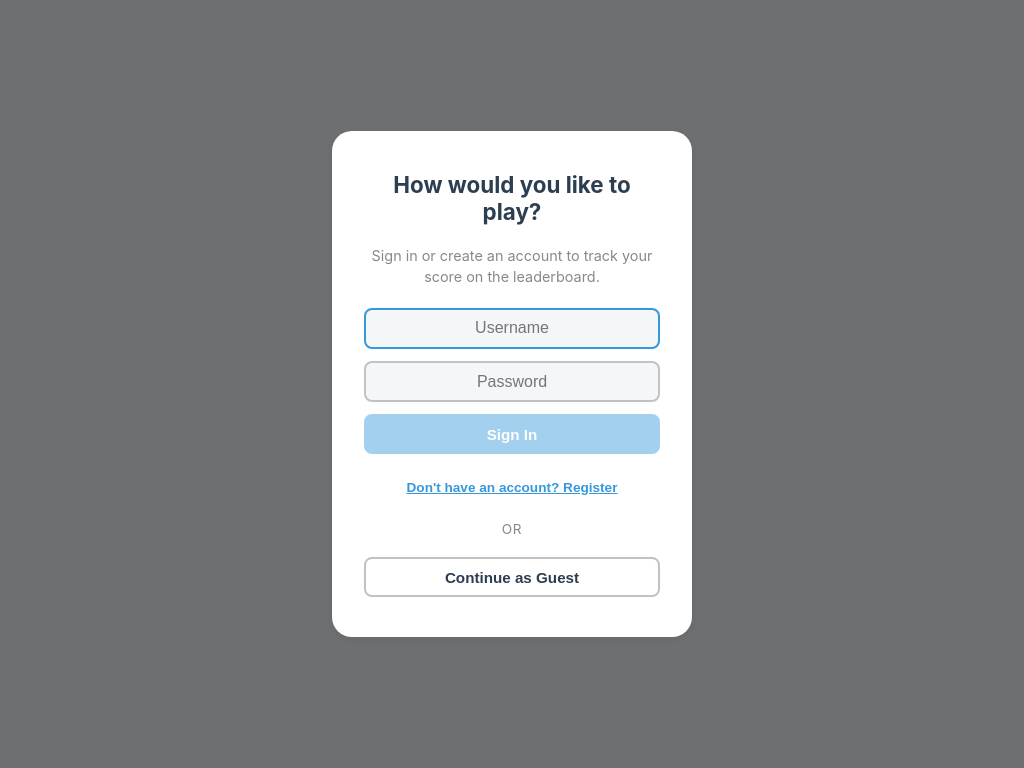
Test case: AuthModal — register mode › register button is enabled when all fields are filled
Click the button "Don't have an account? Register" at (512, 488), box [400, 474, 624, 501]
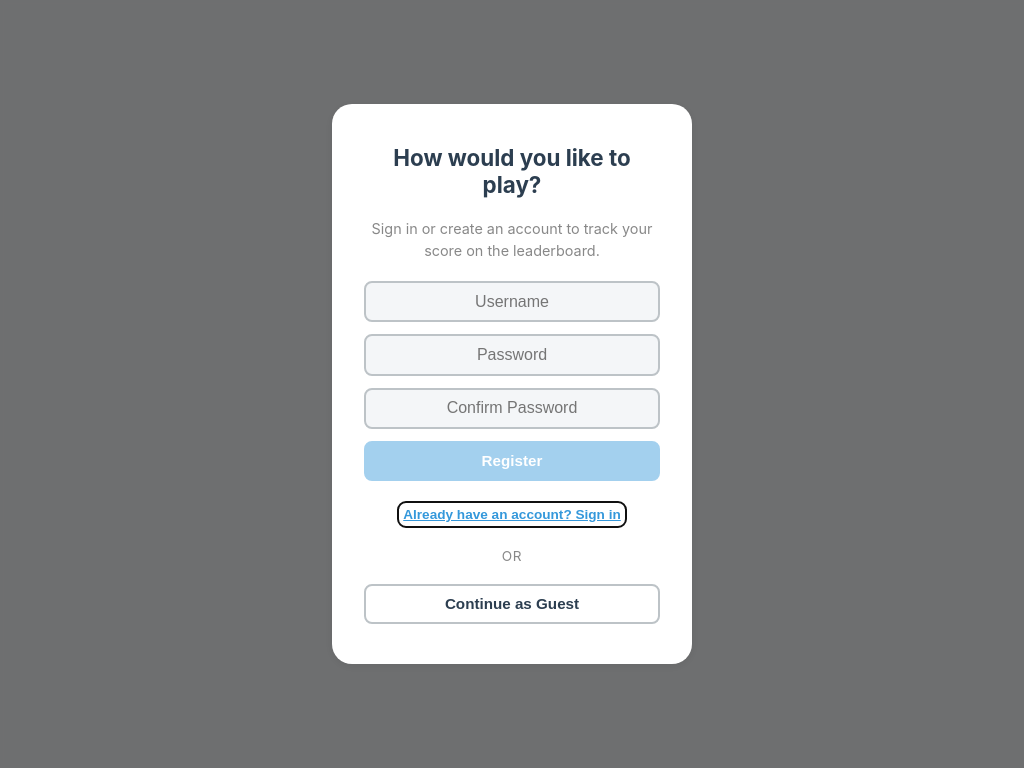
Type "alice" into the field labelled "Username" at (512, 302), box [364, 281, 660, 322]
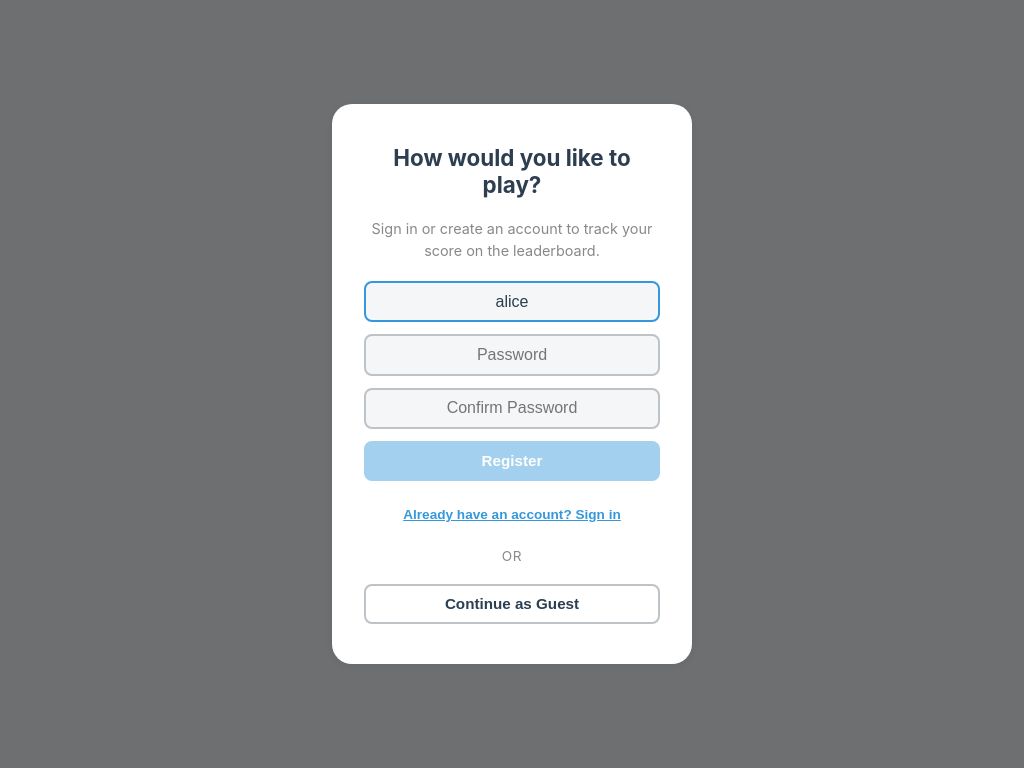
Type "pass123" into the password field labelled "Password" at (512, 355), box [364, 334, 660, 376]
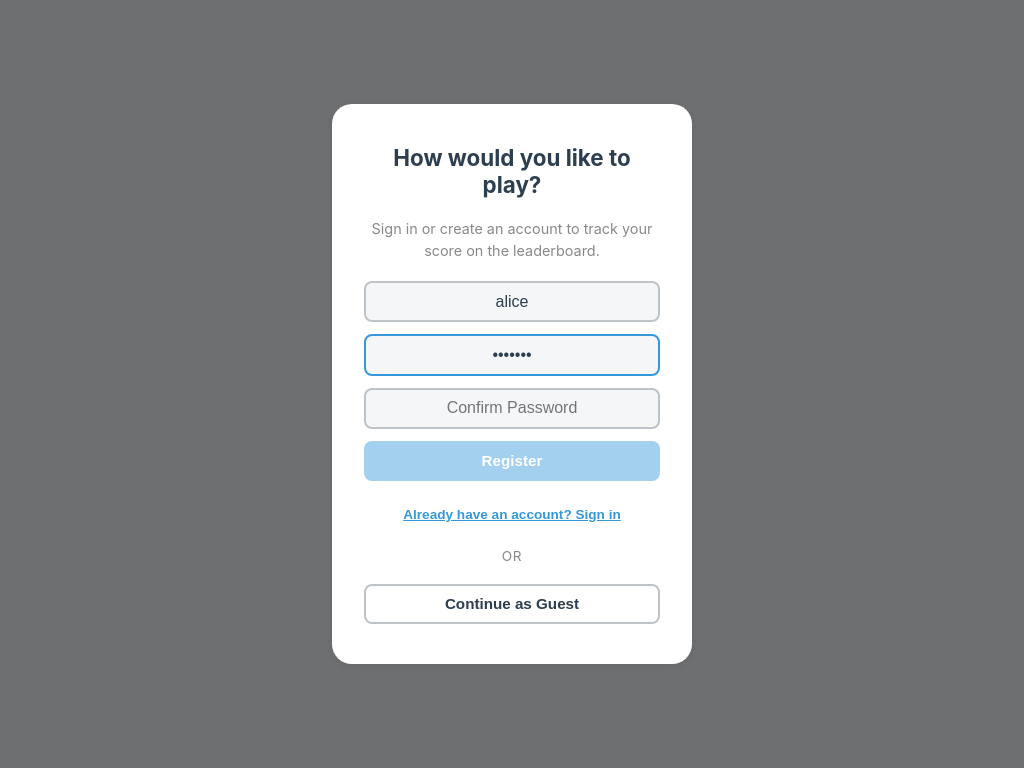
Type "pass123" into the password field labelled "Confirm Password" at (512, 408), box [364, 388, 660, 429]
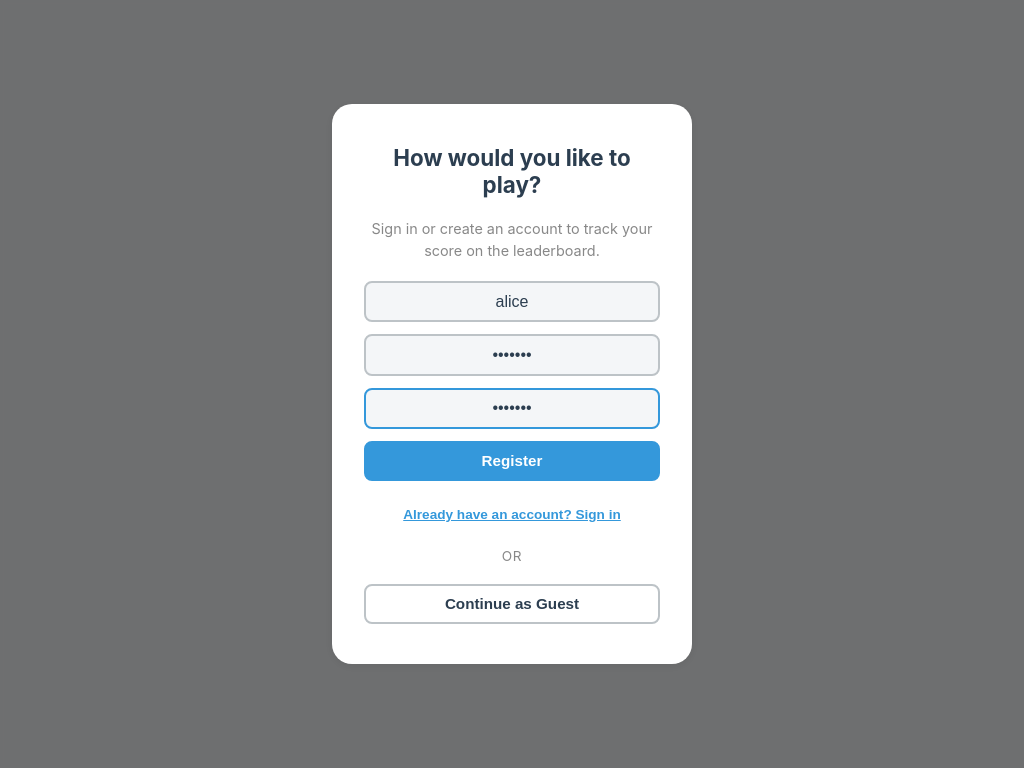
Now the button "Register" is enabled, box [364, 441, 660, 481]
